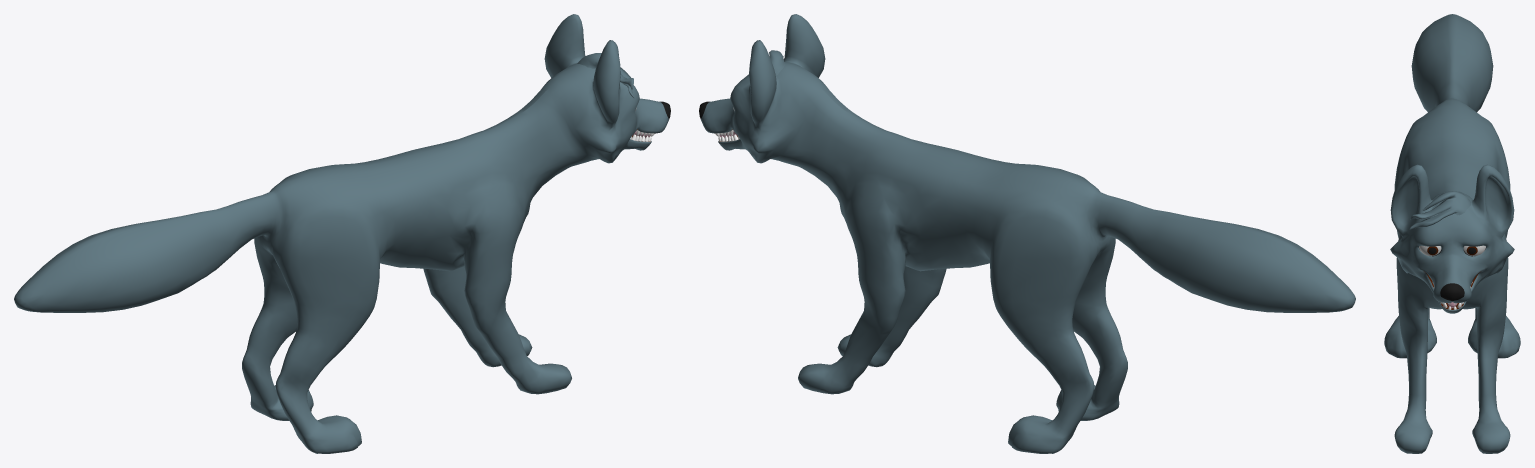
The model's file is pes_veseli.glb.
The picture shows the model from 3 angles, left to right: view 1: azimuth 30°, elevation 25°; view 2: azimuth 150°, elevation 25°; view 3: azimuth 270°, elevation 25°; orthographic projection. The views are drawn at different scales.
Parts seen in each view (by area): view 1: Dog_Material.006_0; view 2: Dog_Material.006_0; view 3: Dog_Material.006_0, bang_Material.006_0, Dog_Nose.002_0, Dog_Eye1.002_0.
Part boxes in pixels (x1,y1,x2,y2): Dog_Material.006_0: (14, 14, 668, 453); Dog_Material.006_0: (701, 14, 1355, 453); Dog_Material.006_0: (1384, 14, 1520, 453); bang_Material.006_0: (1409, 191, 1470, 229); Dog_Nose.002_0: (1440, 283, 1464, 300); Dog_Eye1.002_0: (1419, 245, 1485, 256).
Size of the model in its own units: 1.24 by 0.6 by 0.2364.
